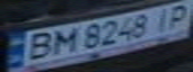2: (100, 18, 121, 47)
4: (115, 15, 139, 43)
8: (78, 20, 103, 51), (130, 11, 154, 39)
B: (18, 29, 60, 62)
I: (148, 6, 175, 33)
M: (45, 26, 81, 56)
P: (160, 2, 193, 32)
